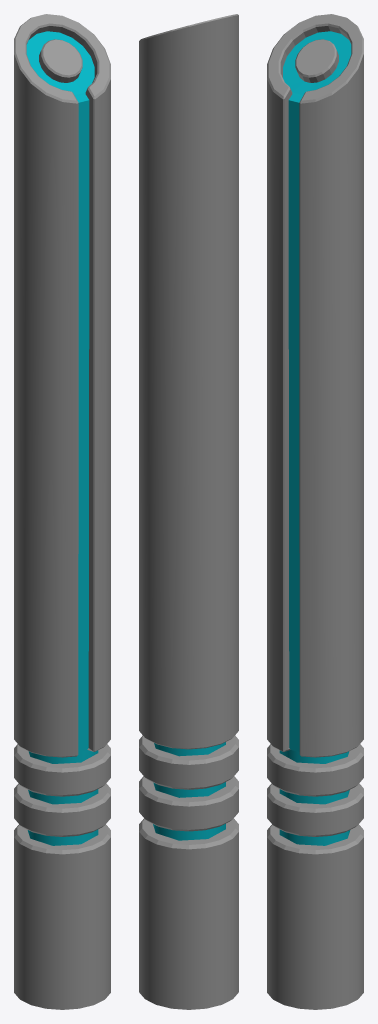
File: spire.FBX
The picture shows the model from 3 angles, left to right: view 1: azimuth 30°, elevation 25°; view 2: azimuth 210°, elevation 25°; view 3: azimuth 330°, elevation 25°; orthographic projection. The views are drawn at different scales.
Parts seen in each view (by area): view 1: spire; view 2: spire; view 3: spire.
Part boxes in pixels (bbox=[...]): spire: bbox=[14, 14, 110, 1009]; spire: bbox=[139, 14, 238, 1009]; spire: bbox=[267, 14, 363, 1009].
Bounding box in the file's own units: 860 × 9232 × 847.
